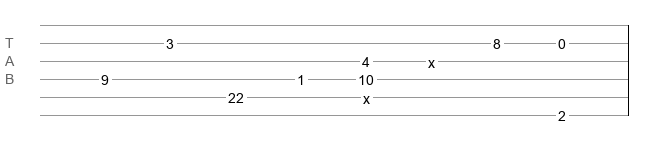0: (558, 36, 566, 46)
1: (297, 72, 305, 82)
10: (358, 72, 374, 82)
2: (558, 108, 566, 118)
22: (228, 90, 244, 100)
3: (166, 36, 174, 46)
4: (362, 54, 370, 64)
8: (493, 36, 501, 46)
9: (101, 72, 109, 82)
x: (363, 91, 370, 99), (428, 55, 435, 63)
